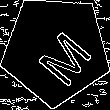M_NW: (23, 16, 89, 84)
